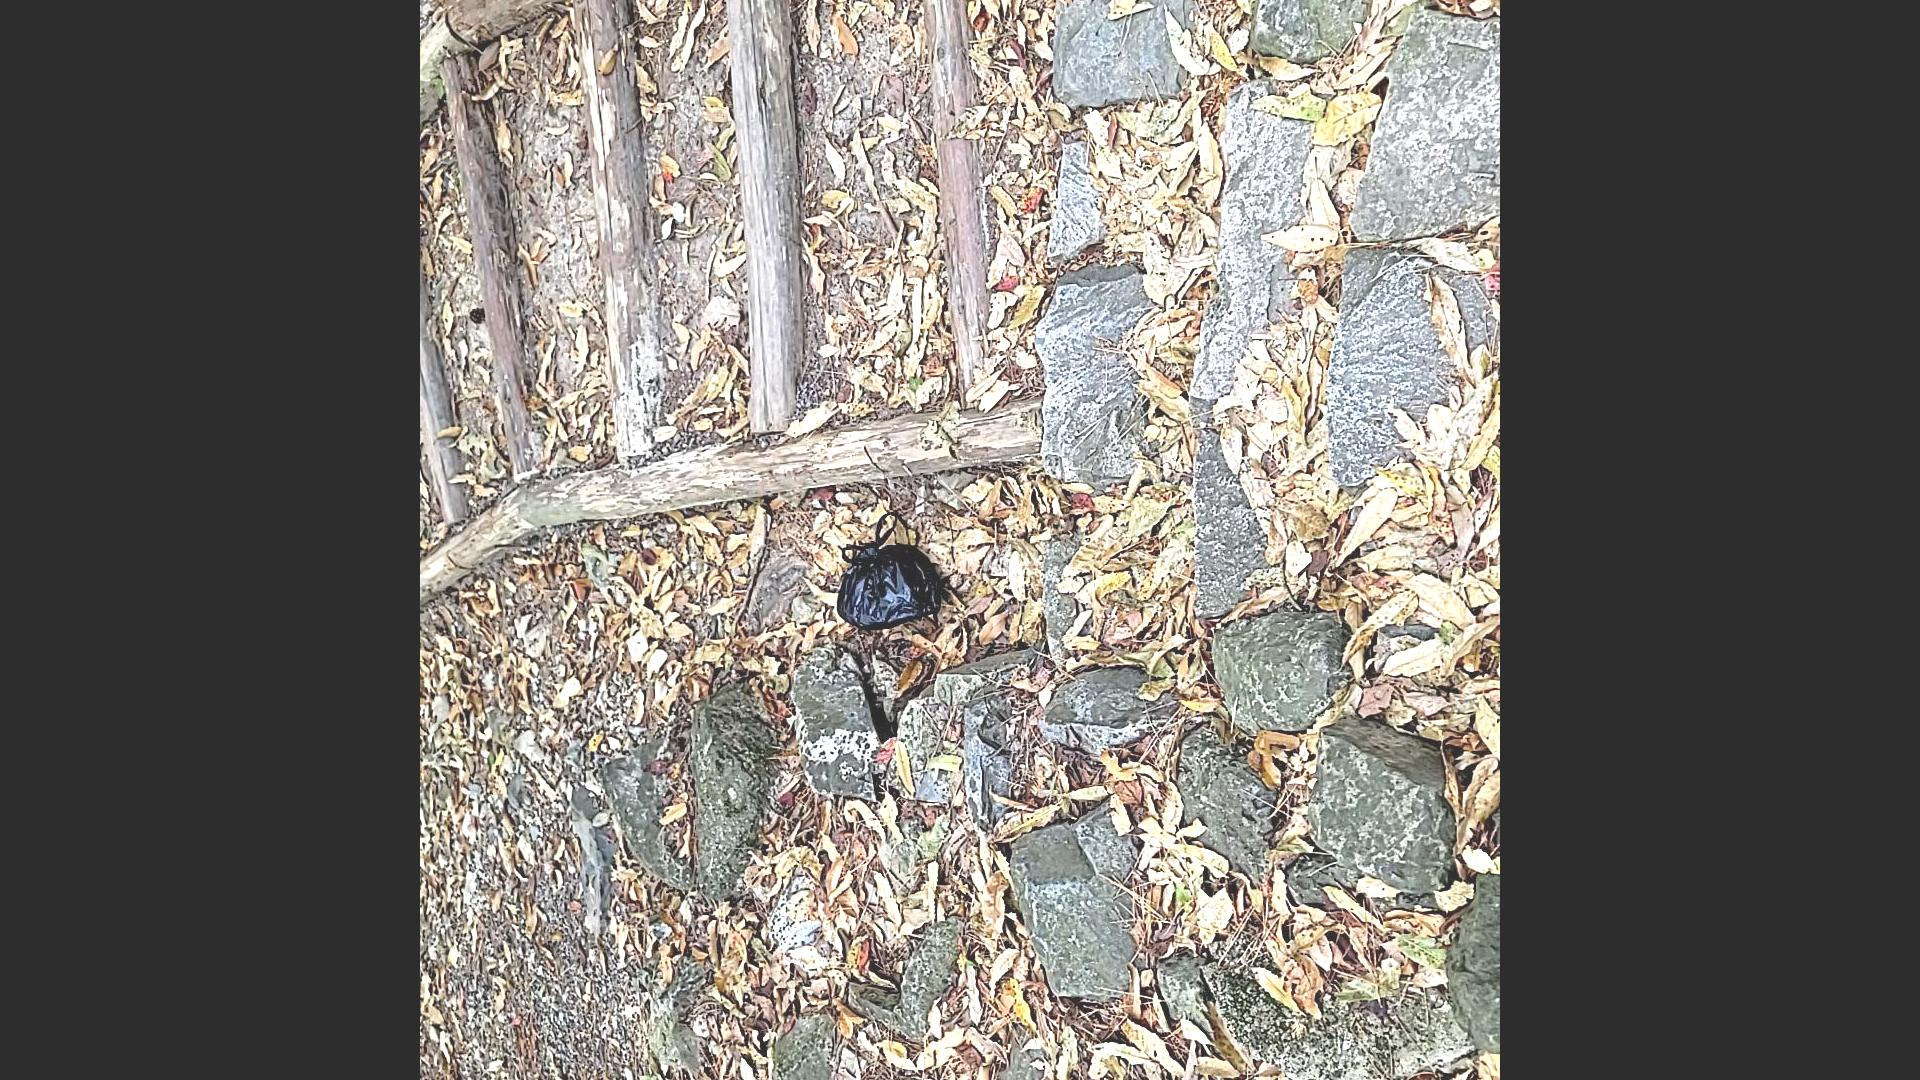black_bag: (811, 509, 949, 642)
